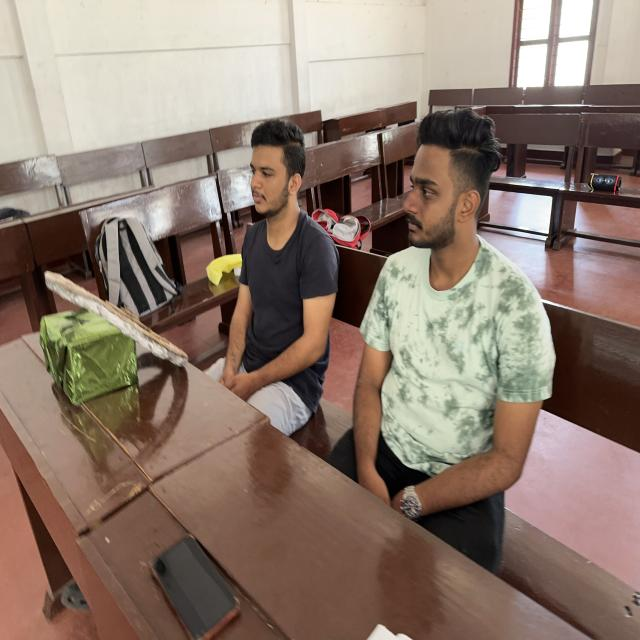no-seatbelt: (367, 246, 551, 529), (233, 209, 335, 418)
